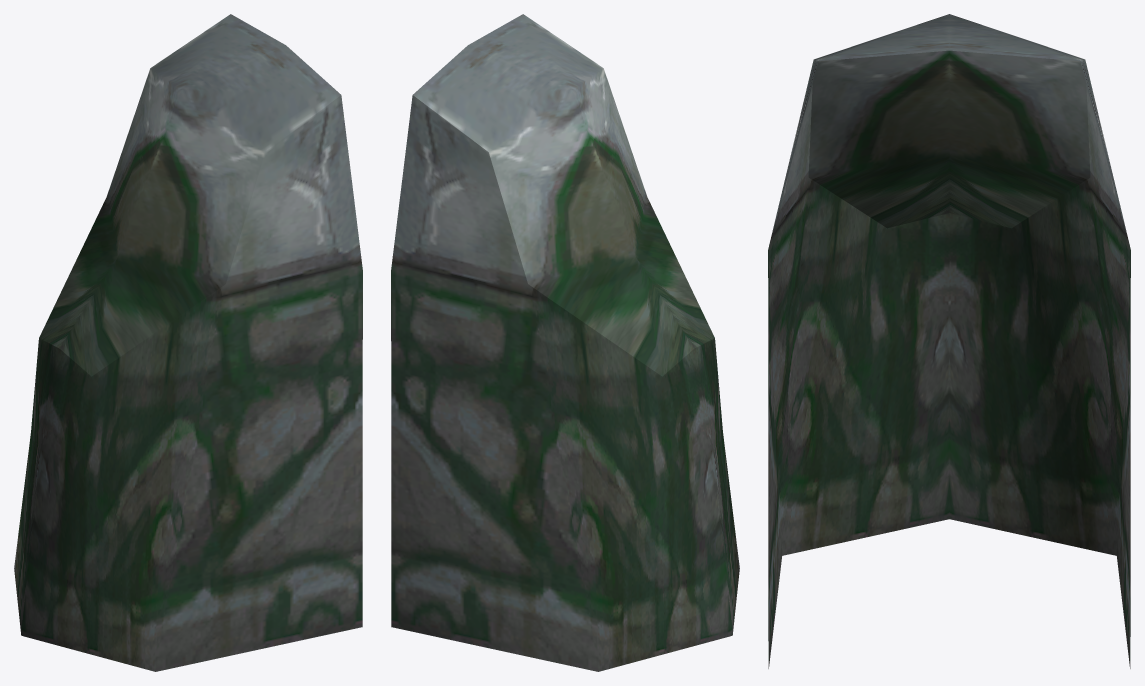
The model's file is stemple_wall_transition_03.fbx.
The picture shows the model from 3 angles, left to right: view 1: azimuth 30°, elevation 25°; view 2: azimuth 150°, elevation 25°; view 3: azimuth 270°, elevation 25°; orthographic projection. The views are drawn at different scales.
Visible parts, largest first — view 1: sunken_tileset/sunken_quarter03_mat; view 2: sunken_tileset/sunken_quarter03_mat; view 3: sunken_tileset/sunken_quarter03_mat.
Boxes of the visible parts, bbox=[...] form: sunken_tileset/sunken_quarter03_mat: bbox=[14, 14, 362, 671]; sunken_tileset/sunken_quarter03_mat: bbox=[391, 14, 739, 671]; sunken_tileset/sunken_quarter03_mat: bbox=[768, 14, 1130, 668].
Bounding box in the file's own units: 0.8302 × 1.57 × 0.8328.
